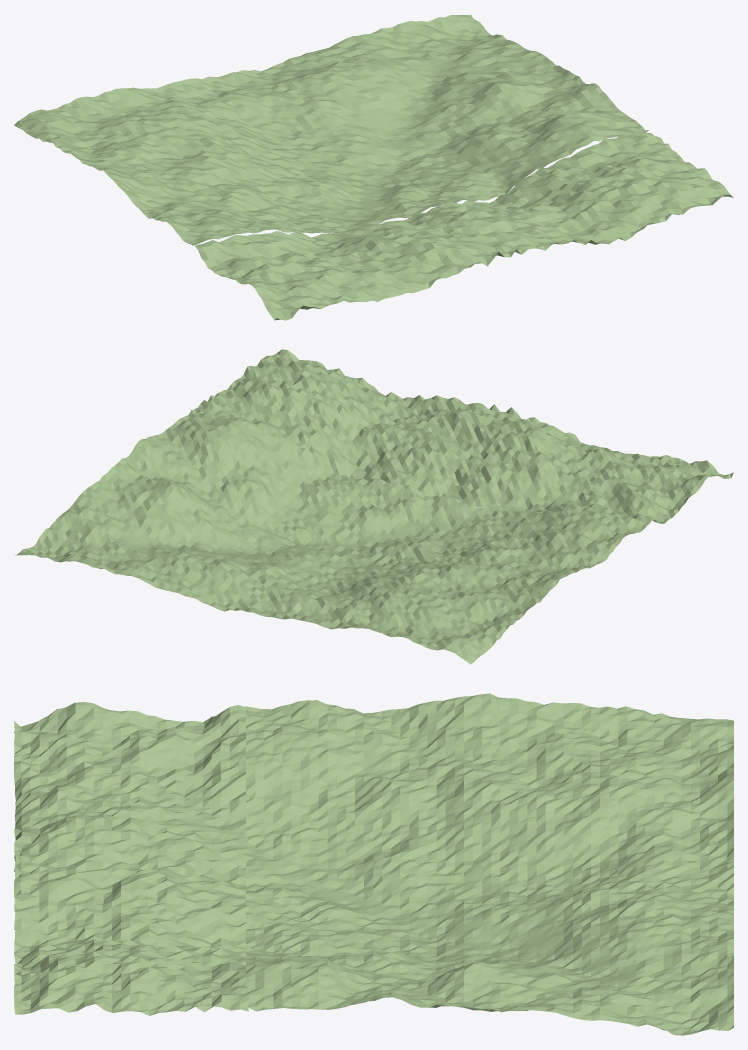
File: TerrainQuads.fbx
3 renders of one model, top to bottom at view 1: azimuth 30°, elevation 25°; view 2: azimuth 150°, elevation 25°; view 3: azimuth 270°, elevation 25°, orthographic. The views are drawn at different scales.
Visible parts, largest first — view 1: Q8, Q7, Q9, Q6, Q1, Q3, Q2, Q5, Q4; view 2: Q8, Q4, Q7, Q9, Q5, Q3, Q1, Q2, Q6; view 3: Q2, Q3, Q1, Q4, Q5, Q6, Q9, Q7, Q8.
Part boxes in pixels (x1=…): Q8: x1=406, y1=66, x2=648, y2=196; Q7: x1=495, y1=131, x2=733, y2=244; Q9: x1=318, y1=14, x2=559, y2=137; Q6: x1=174, y1=50, x2=405, y2=161; Q1: x1=192, y1=230, x2=435, y2=320; Q3: x1=14, y1=82, x2=261, y2=173; Q2: x1=103, y1=157, x2=348, y2=245; Q5: x1=262, y1=138, x2=494, y2=230; Q4: x1=351, y1=200, x2=579, y2=279; Q8: x1=102, y1=409, x2=345, y2=547; Q4: x1=350, y1=395, x2=574, y2=509; Q7: x1=194, y1=349, x2=430, y2=476; Q9: x1=15, y1=476, x2=255, y2=590; Q5: x1=257, y1=475, x2=488, y2=571; Q3: x1=311, y1=567, x2=559, y2=664; Q1: x1=489, y1=435, x2=733, y2=524; Q2: x1=404, y1=508, x2=648, y2=583; Q6: x1=167, y1=548, x2=399, y2=622; Q2: x1=245, y1=693, x2=491, y2=854; Q3: x1=490, y1=693, x2=733, y2=840; Q1: x1=14, y1=702, x2=249, y2=846; Q4: x1=14, y1=815, x2=248, y2=947; Q5: x1=246, y1=841, x2=491, y2=955; Q6: x1=491, y1=823, x2=733, y2=953; Q9: x1=488, y1=916, x2=733, y2=1035; Q7: x1=14, y1=921, x2=248, y2=1015; Q8: x1=246, y1=939, x2=491, y2=1011.
Size of the model in its own units: 19875 by 2035 by 19830.
